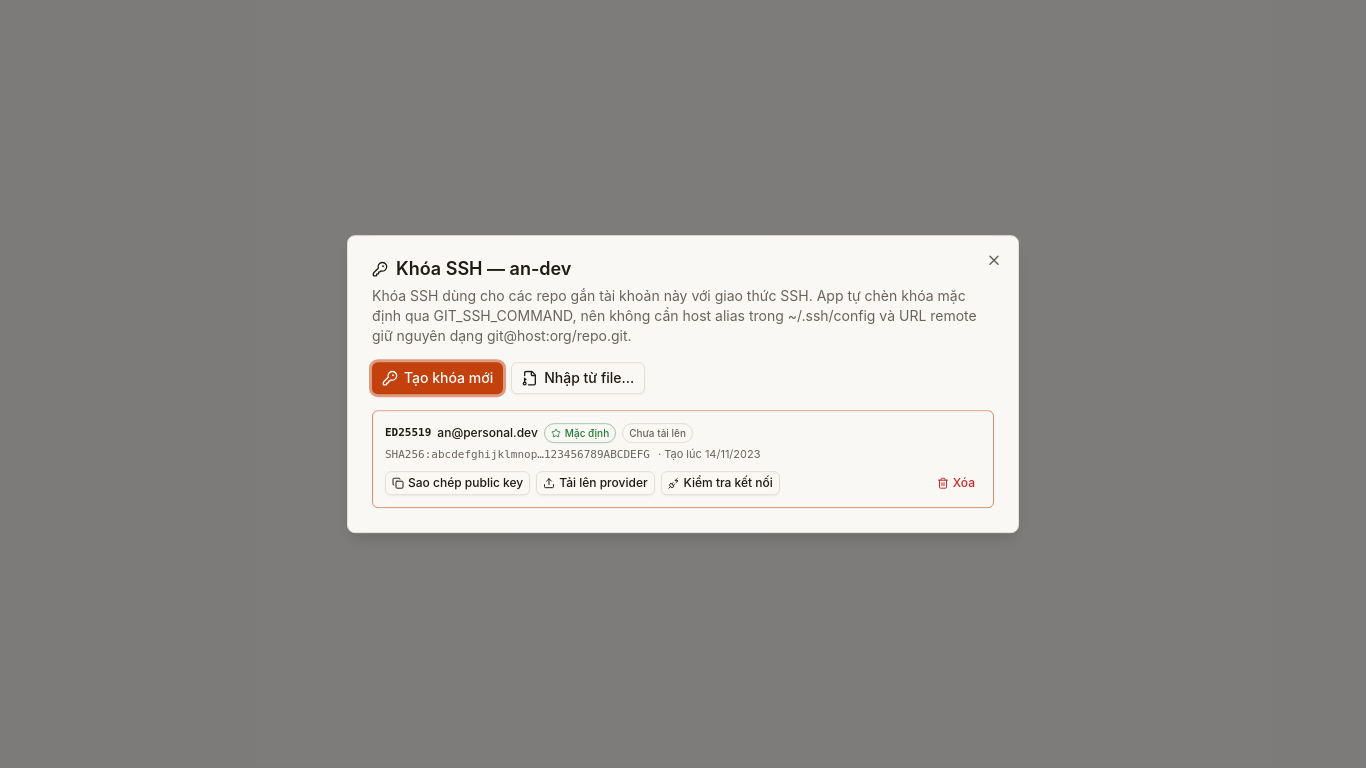
Scenario: SshKeysDialog › tests the connection and shows who the key authenticates as
Click the button "Kiểm tra kết nối".
click(720, 483)  # box [661,471,780,495]
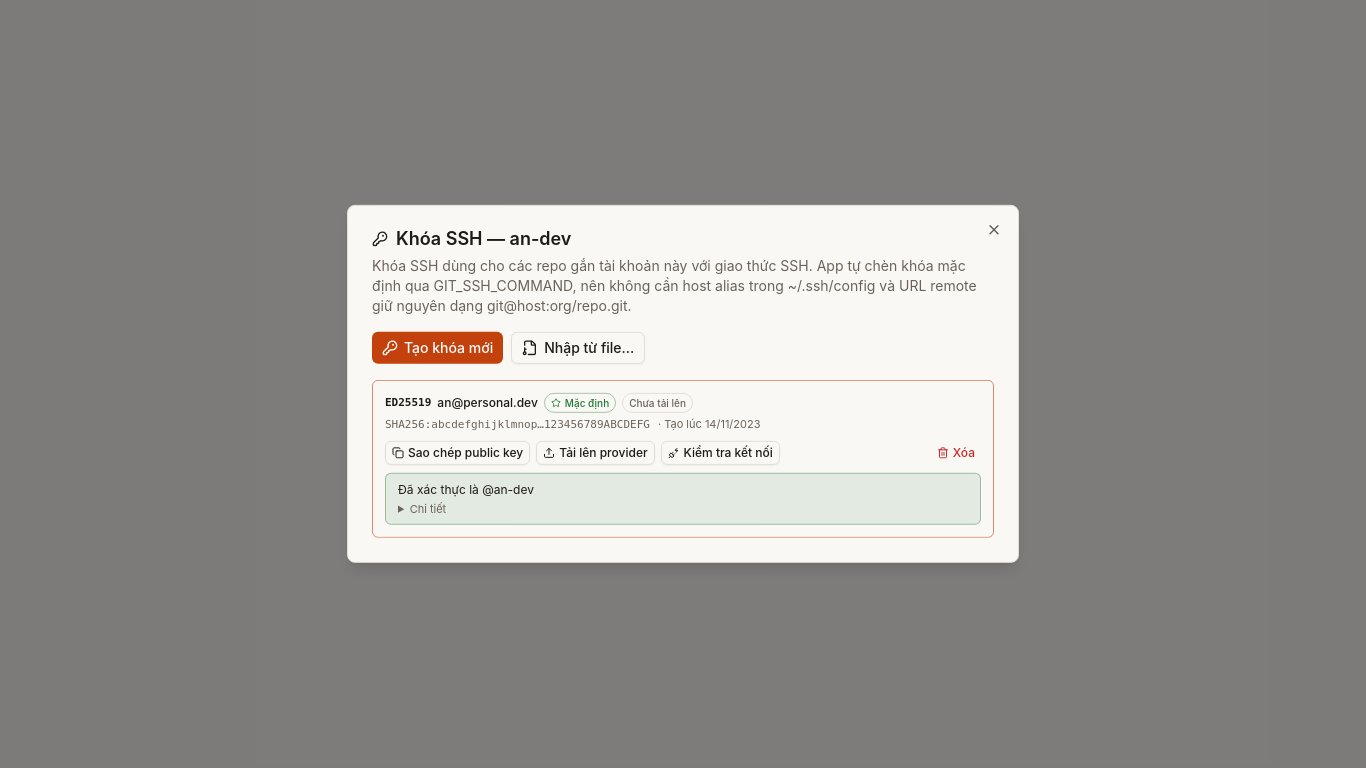
Check: the text "Đã xác thực là @an-dev" is shown, box [398,482,534,496]
